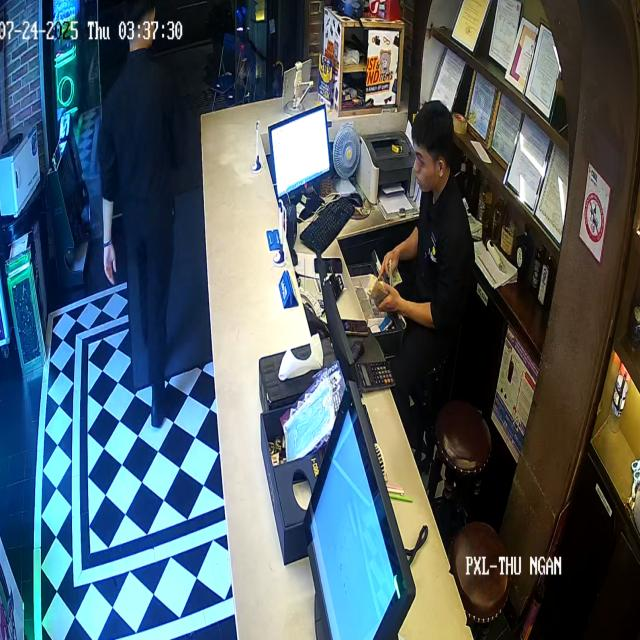nhan vien: (90, 8, 195, 463), (374, 70, 486, 443)
